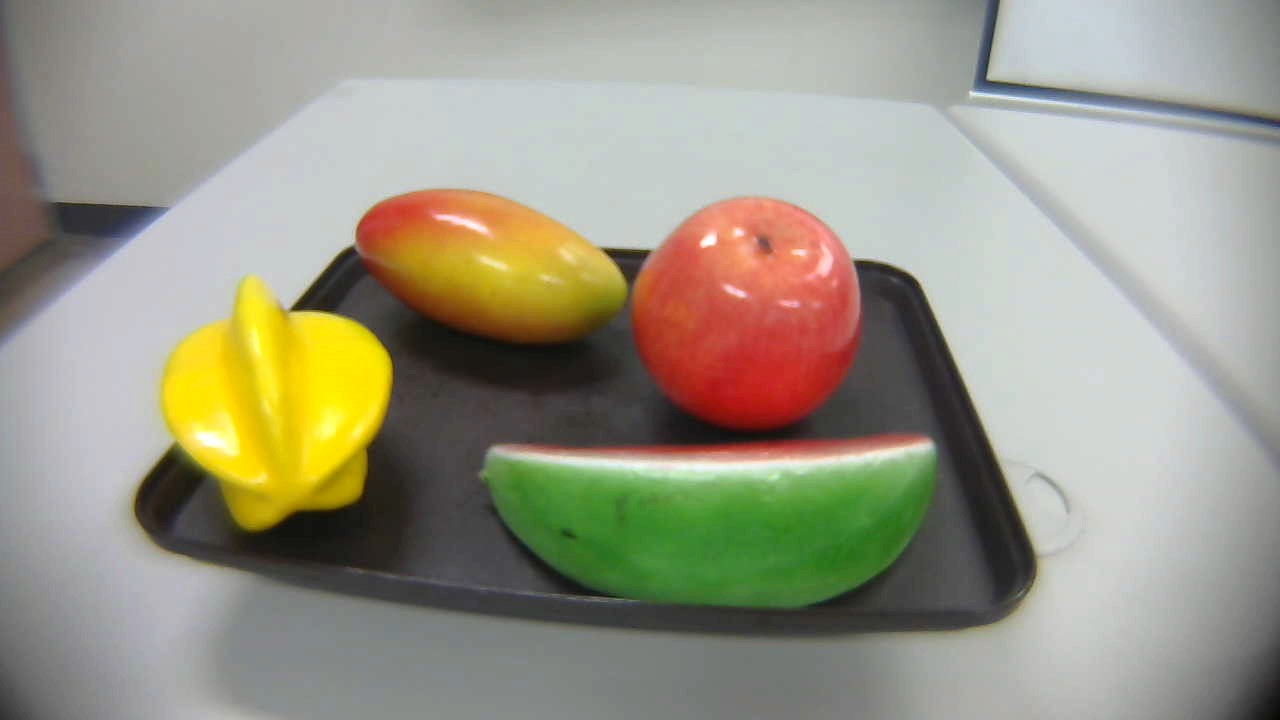red apple: (627, 198, 860, 436)
red mango: (348, 174, 638, 366)
star fruit: (150, 271, 397, 533)
water melon: (472, 416, 945, 614)
